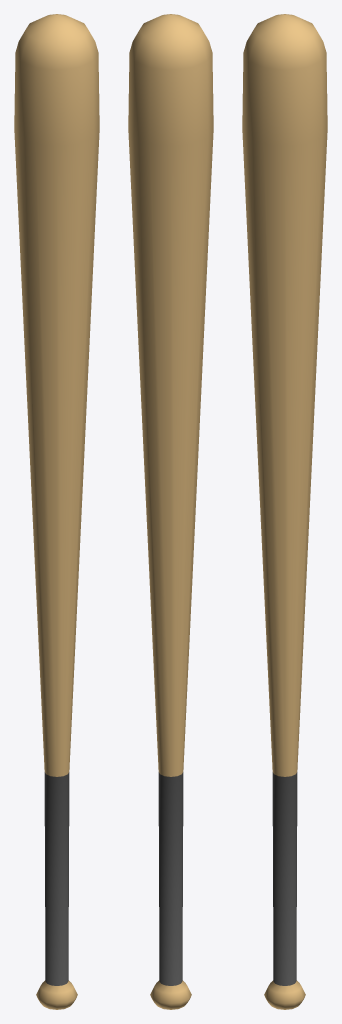
The model's file is Baseball_Bat.fbx.
3 renders of one model, left to right at view 1: azimuth 30°, elevation 25°; view 2: azimuth 210°, elevation 25°; view 3: azimuth 270°, elevation 25°, orthographic.
Parts seen in each view (by area): view 1: Baseball_Bat; view 2: Baseball_Bat; view 3: Baseball_Bat.
Part boxes in pixels (left/top/right/bottom): Baseball_Bat: left=14, top=14, right=99, bottom=1009; Baseball_Bat: left=128, top=14, right=213, bottom=1009; Baseball_Bat: left=242, top=14, right=327, bottom=1009.
Size of the model in its own units: 7.66 by 97.84 by 7.66.
